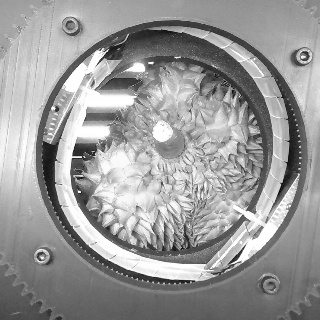base: (151, 129, 190, 165)
end: (152, 120, 174, 143)
